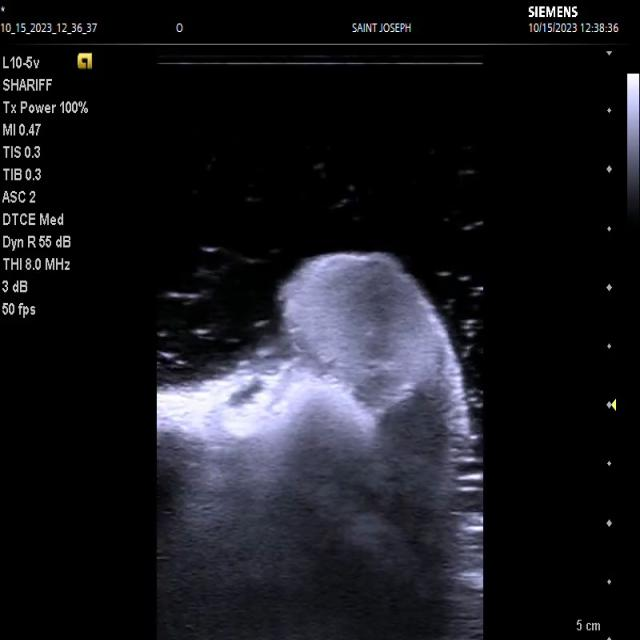tissue: (157, 253, 482, 640)
